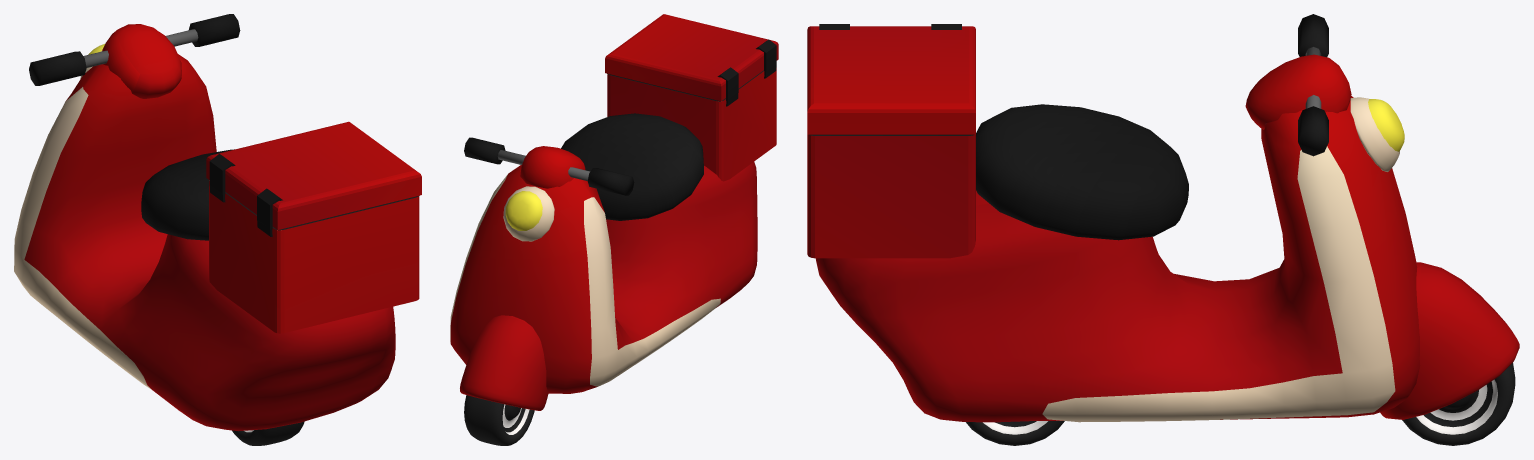
The model's file is kurye motoru.fbx.
The picture shows the model from 3 angles, left to right: view 1: azimuth 30°, elevation 25°; view 2: azimuth 150°, elevation 25°; view 3: azimuth 270°, elevation 25°; orthographic projection. The views are drawn at different scales.
Parts seen in each view (by area): view 1: Circle; view 2: Circle; view 3: Circle.
Part boxes in pixels (<box>): Circle: <box>14,14,421,445</box>; Circle: <box>450,14,778,445</box>; Circle: <box>807,14,1519,445</box>.
Bounding box in the file's own units: 140 × 208 × 354.
1 material, 1 textured.
